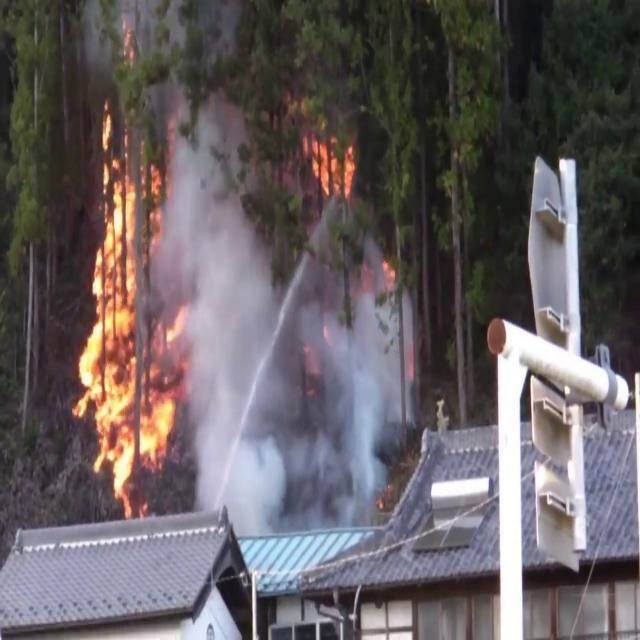Fire: (66, 109, 184, 502)
Smoke: (149, 154, 414, 562)
